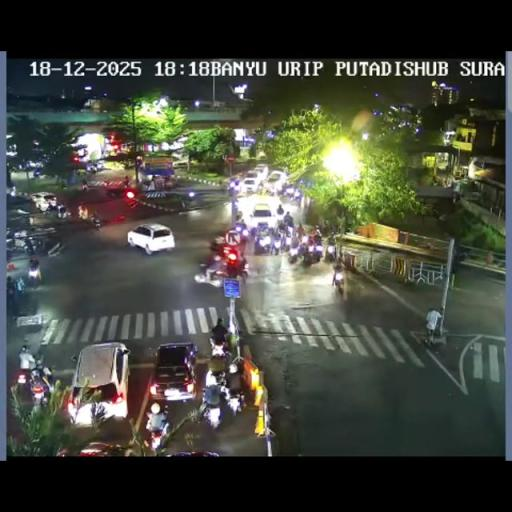Car: (68, 342, 130, 425), (149, 342, 198, 403), (126, 222, 176, 256), (246, 201, 280, 232), (65, 441, 129, 456), (30, 191, 58, 211), (102, 178, 130, 197), (264, 170, 286, 194), (242, 175, 262, 193), (254, 164, 270, 178), (172, 158, 190, 168)
Motorcycle: (26, 363, 54, 408), (145, 404, 169, 450), (192, 257, 226, 287), (10, 287, 36, 317), (201, 394, 223, 428), (424, 308, 442, 345), (225, 385, 245, 416), (302, 238, 323, 265), (14, 364, 30, 398), (253, 227, 272, 254), (208, 234, 229, 257), (209, 332, 230, 355), (27, 262, 42, 288), (230, 222, 248, 243), (331, 266, 344, 294), (237, 256, 249, 283), (286, 241, 300, 263), (270, 232, 282, 254), (218, 380, 230, 401), (205, 368, 218, 387), (185, 191, 198, 209), (227, 178, 241, 194), (325, 243, 336, 262), (14, 276, 25, 295), (24, 236, 35, 254), (90, 214, 102, 230), (284, 185, 296, 200), (284, 224, 294, 241), (6, 236, 16, 253), (55, 205, 68, 218), (283, 212, 294, 226), (326, 230, 336, 245), (322, 220, 332, 235), (78, 206, 88, 219), (275, 209, 284, 223), (250, 224, 258, 238), (294, 188, 302, 202), (235, 210, 243, 222), (314, 226, 322, 238), (260, 185, 268, 195), (301, 233, 308, 244), (90, 164, 96, 174), (10, 187, 16, 197), (102, 178, 109, 186), (82, 183, 88, 192)
